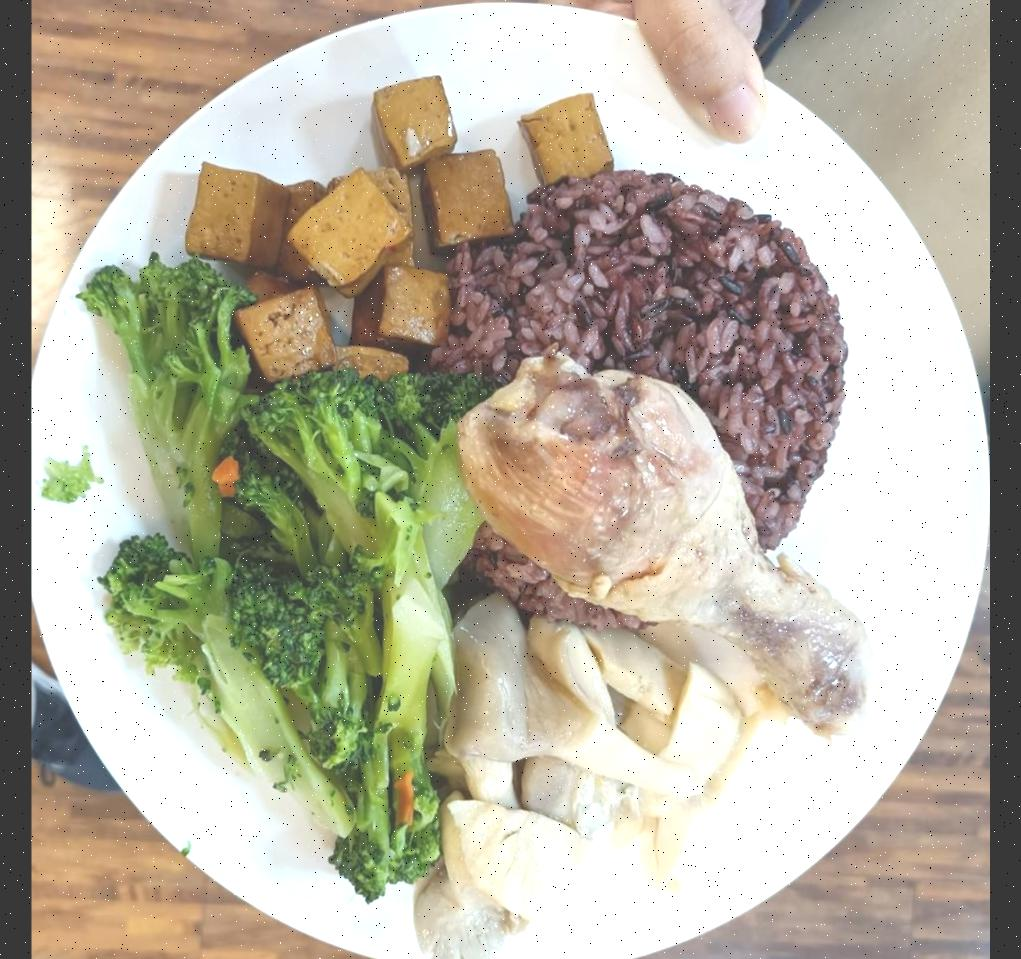big fried chicken leg: (31, 0, 988, 959)
braised fish: (453, 171, 852, 546)
braised fish fillet: (81, 261, 478, 888), (184, 68, 624, 382), (407, 615, 753, 959)
braised pork: (456, 357, 867, 736)
